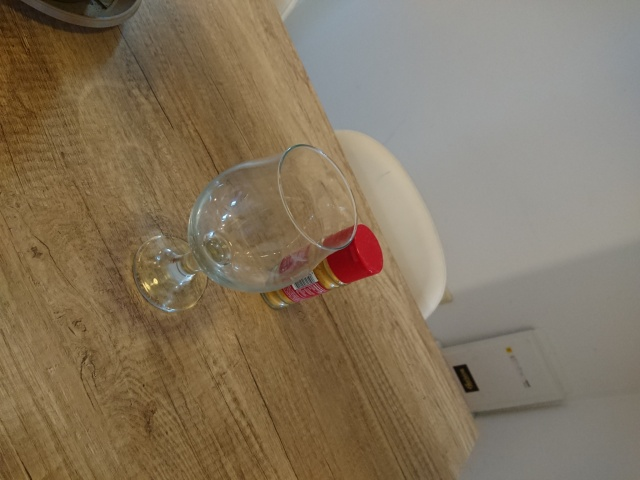Kotanyi Curry Spices Mix 70g: (257, 222, 386, 313)
